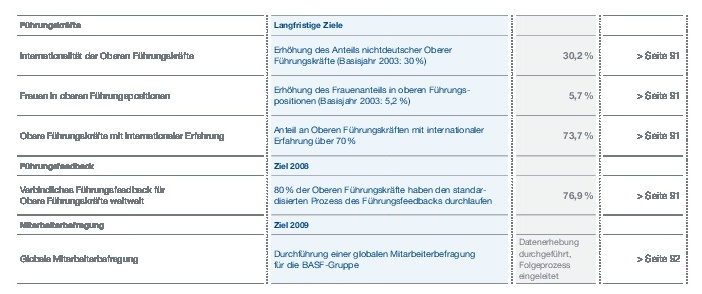table: (0, 0, 702, 294)
